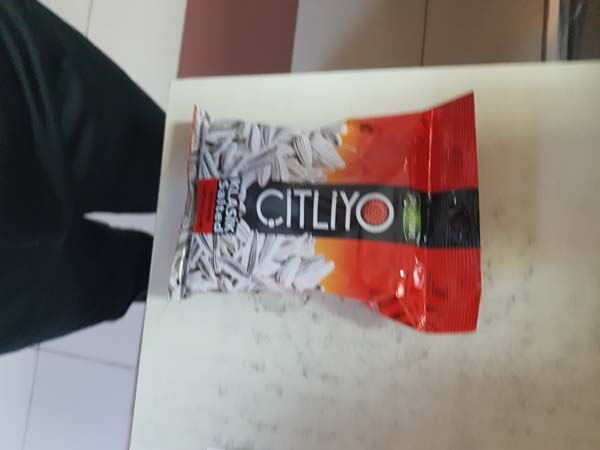citliyorklasik: (159, 88, 487, 337)
